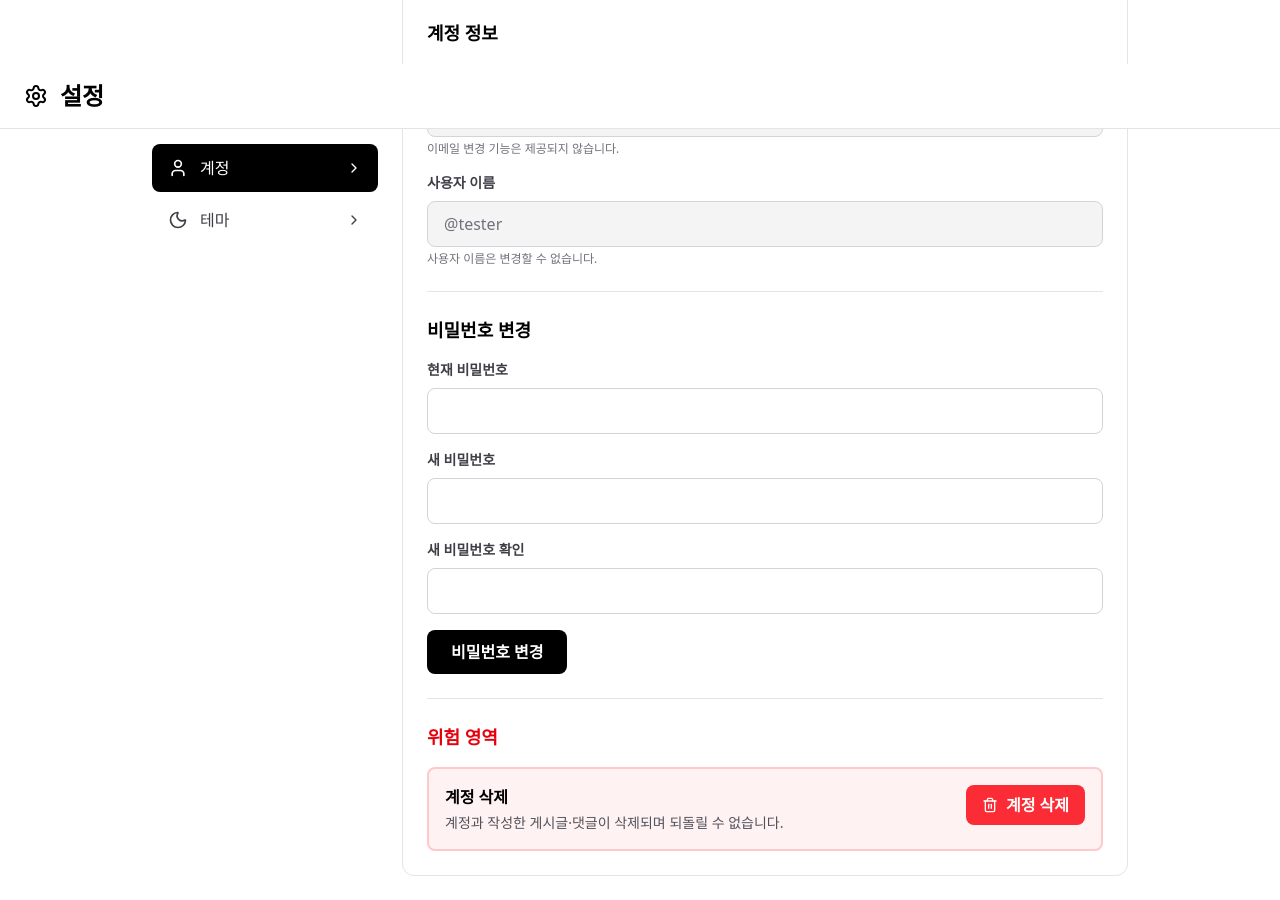
Test case: SettingsPage › asks for confirmation and does nothing when account deletion is cancelled
The width and height of the screenshot is (1280, 900).
(page scrolled)
Click the button "계정 삭제" at x=1026, y=805, box [966,785,1085,825]
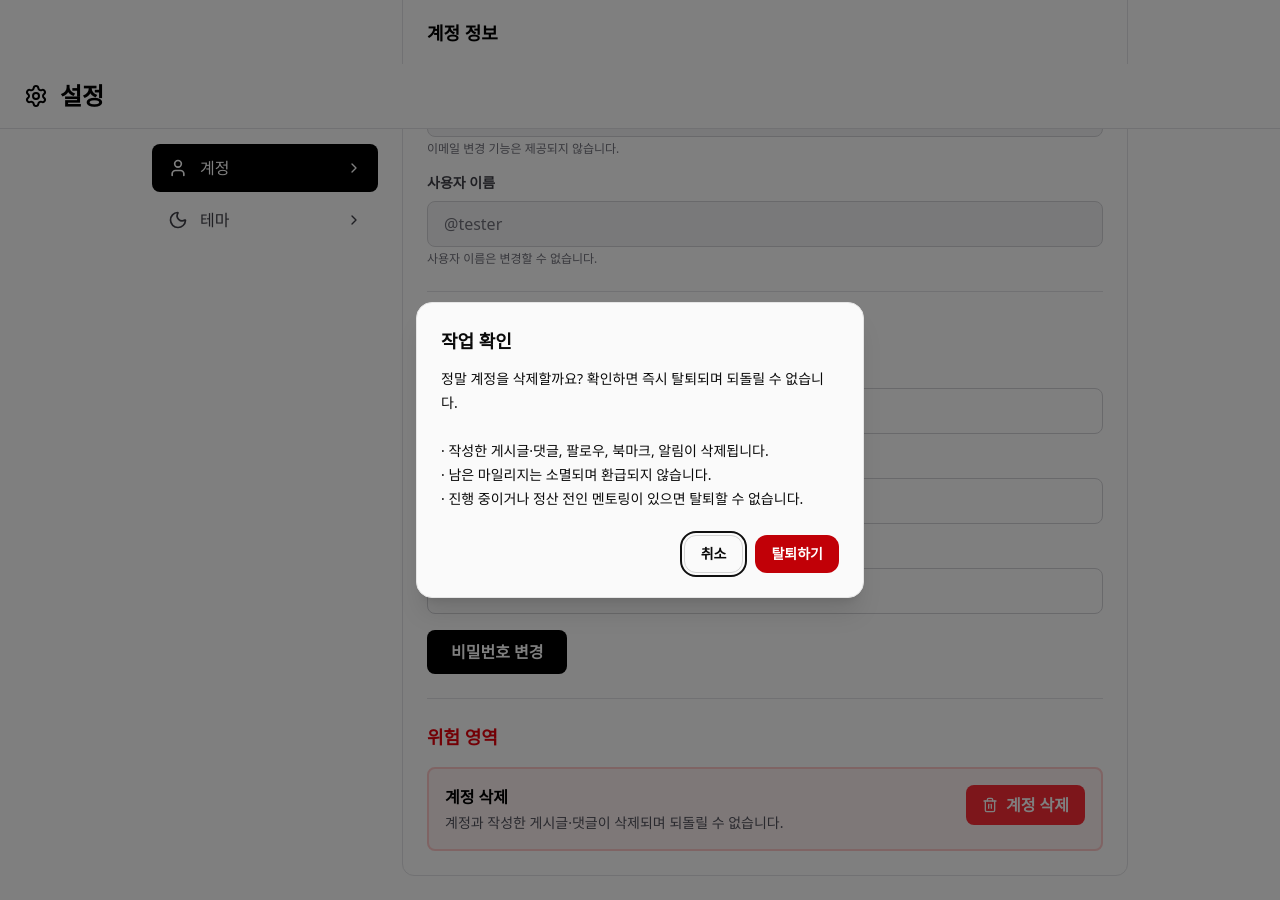
Check: the dialog shows "정말 계정을 삭제할까요?", box [441,369,824,508]
Click the button "취소" at x=714, y=554, box [684,535,744,573]
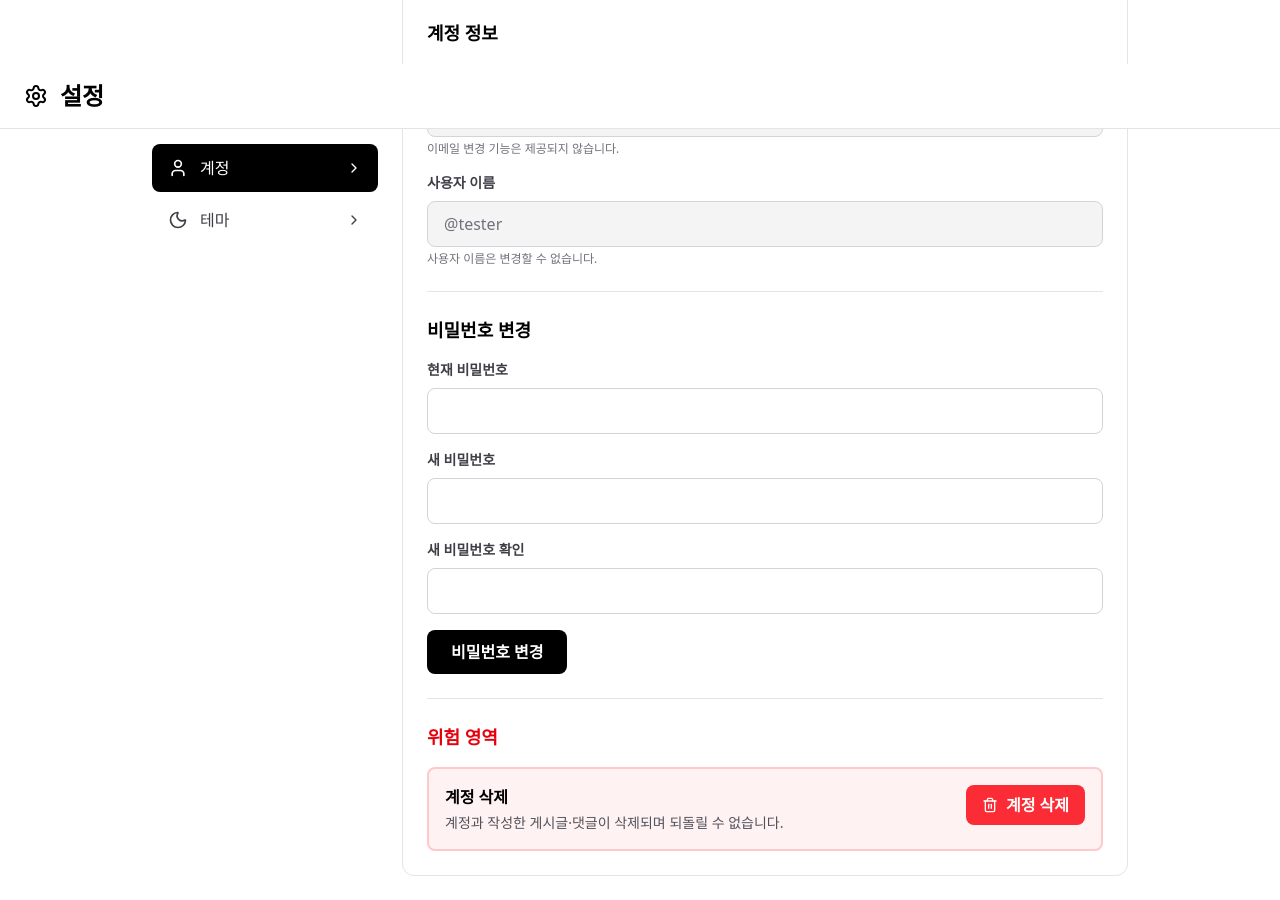
Check: the dialog is gone
